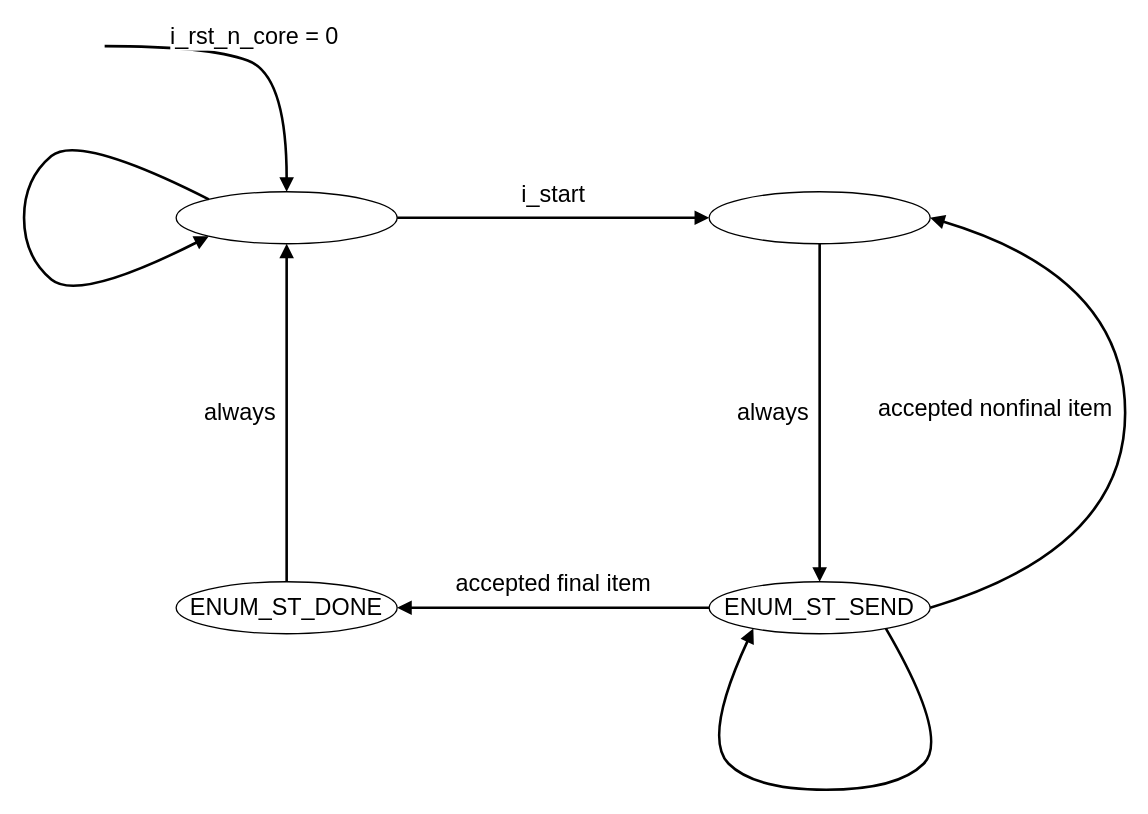
Some shapes in this 1148 by 814 pixel diagram are drawn without their labels. The shapes that lost their labels are listed below. From the top down, each one's centre as x and y in pixels, then its label:
the point at 286,217: ENUM_ST_IDLE
the point at 819,217: ENUM_ST_LOAD
